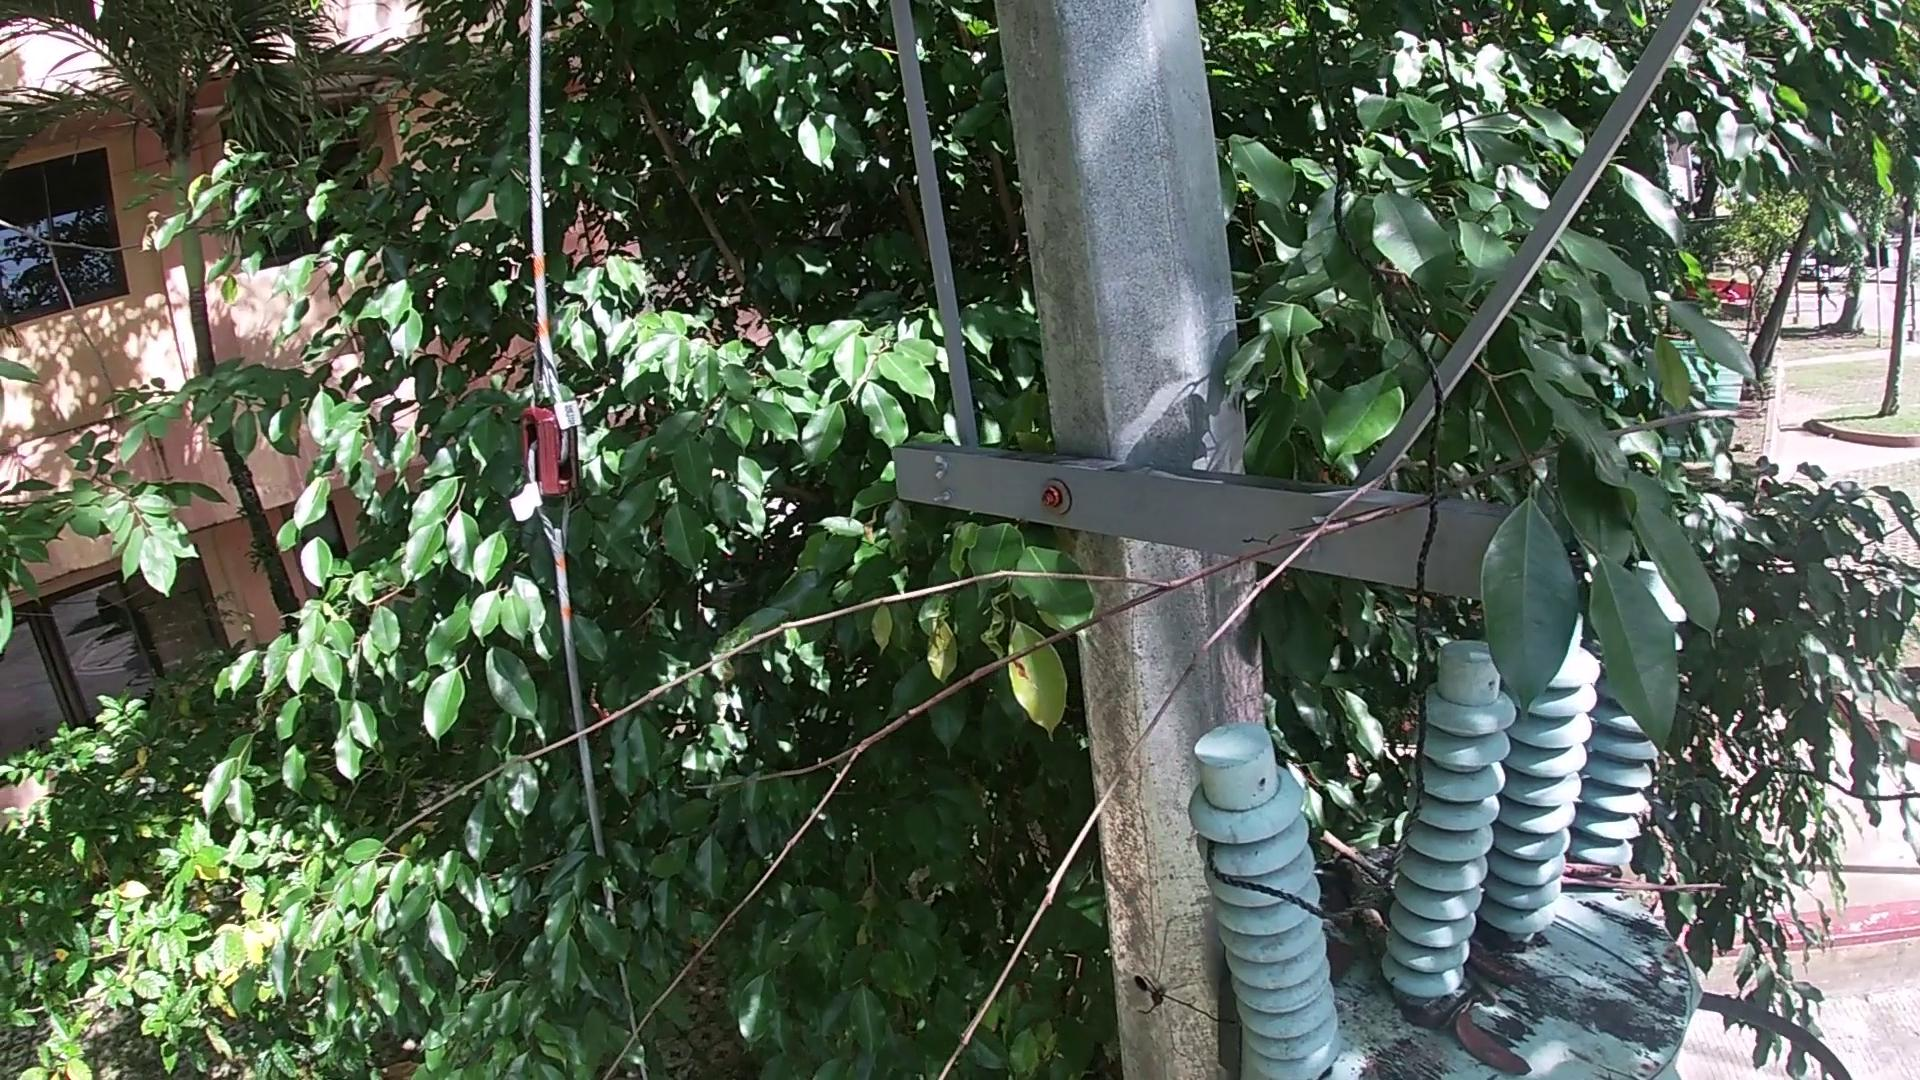leaf: (1393, 994, 1453, 1039)
mahogany fruit: (1469, 1009, 1539, 1071), (1477, 943, 1536, 989)
tree branch: (352, 394, 1749, 1080), (1556, 927, 1675, 1009), (1565, 862, 1746, 913), (1313, 829, 1396, 887), (1337, 856, 1387, 949), (1468, 965, 1505, 1006), (1542, 972, 1594, 993)
